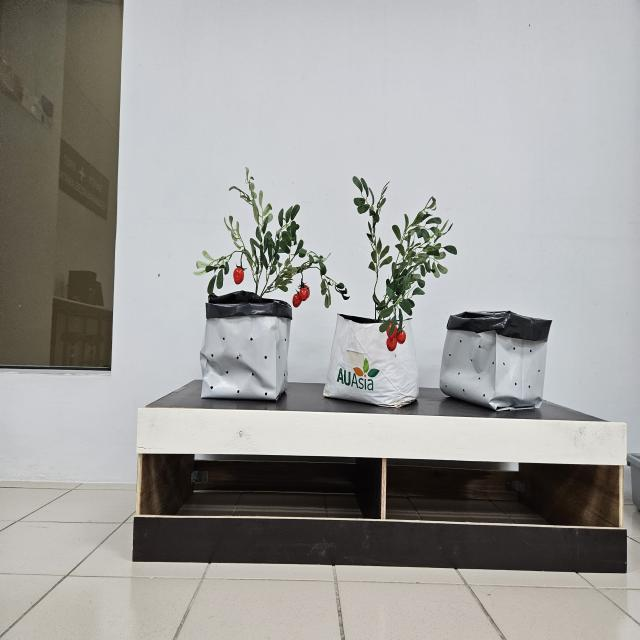Soilbag: (199, 291, 292, 406), (322, 317, 418, 413)
Tomato: (380, 322, 406, 352), (291, 285, 312, 308), (233, 267, 244, 285)
plant: (196, 167, 350, 309), (352, 176, 457, 352)
